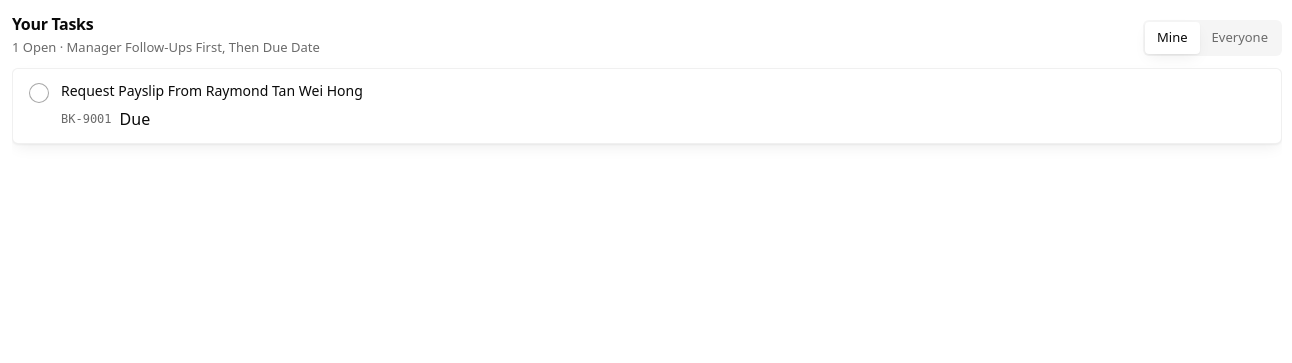
Test case: YourTasks › cancels a close-out without completing the task, by Cancel or Escape, back on its circle
Click the button named "Complete: Request Payslip From Raymond Tan Wei Hong" at (39, 93), box [29, 83, 49, 103]
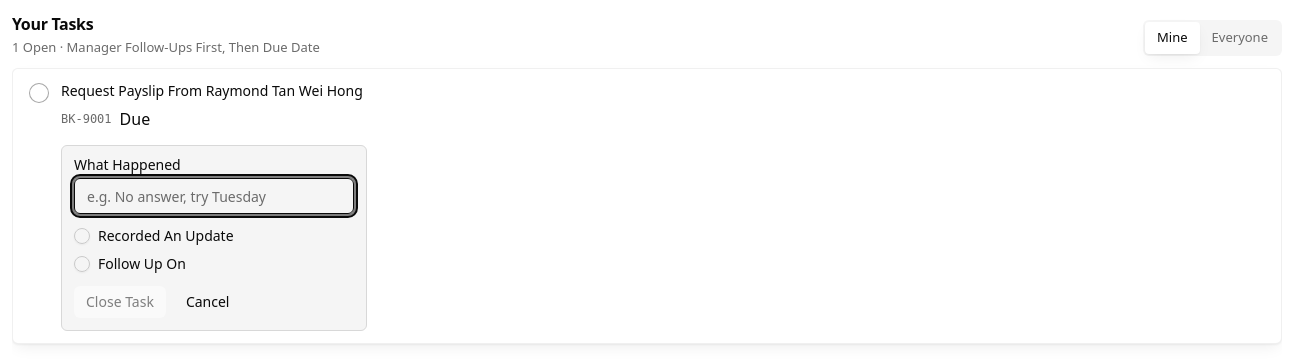
Click the button "Cancel" at (208, 302), box [174, 286, 242, 318]
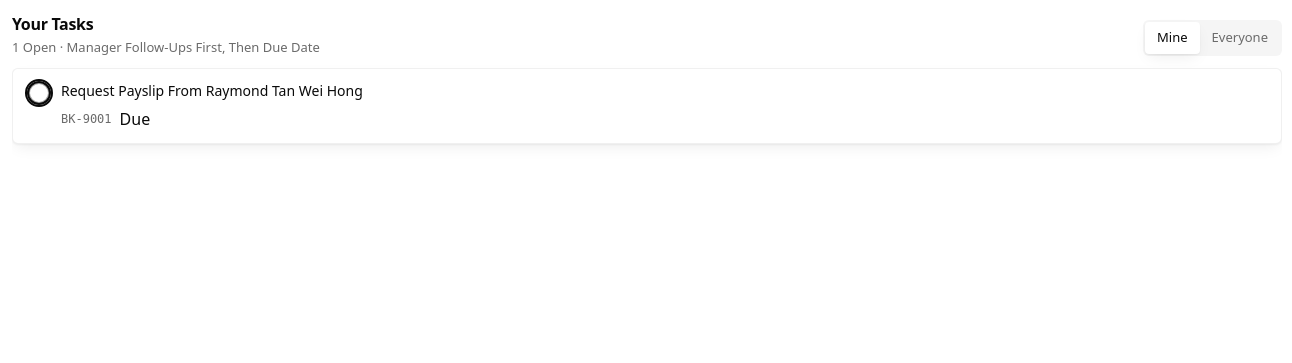
Expected: the form is gone
Click the button named "Complete: Request Payslip From Raymond Tan Wei Hong" at (39, 93), box [29, 83, 49, 103]
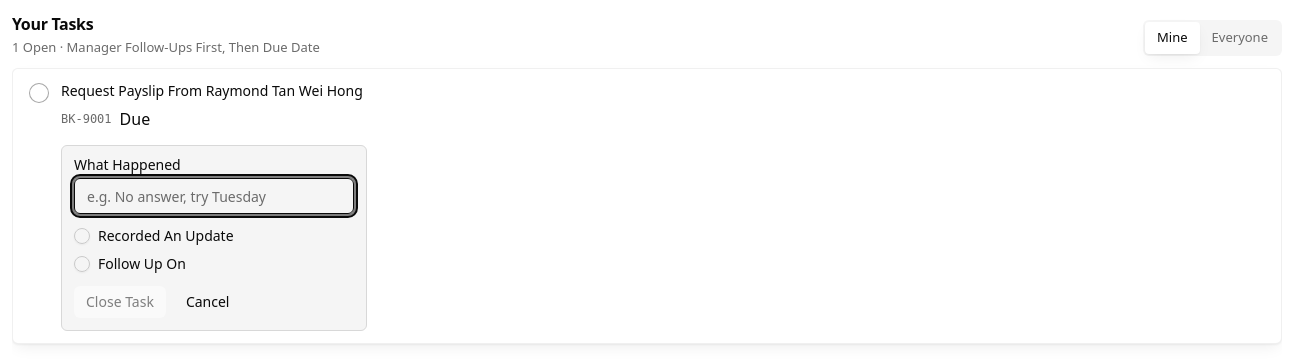
Press Escape in the field labelled "What Happened", box [74, 178, 354, 214]
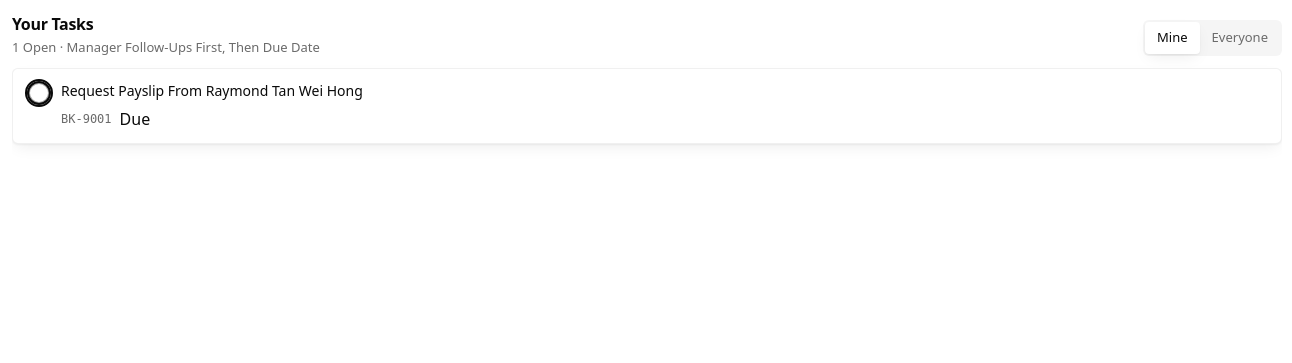
Expected: the form is gone
